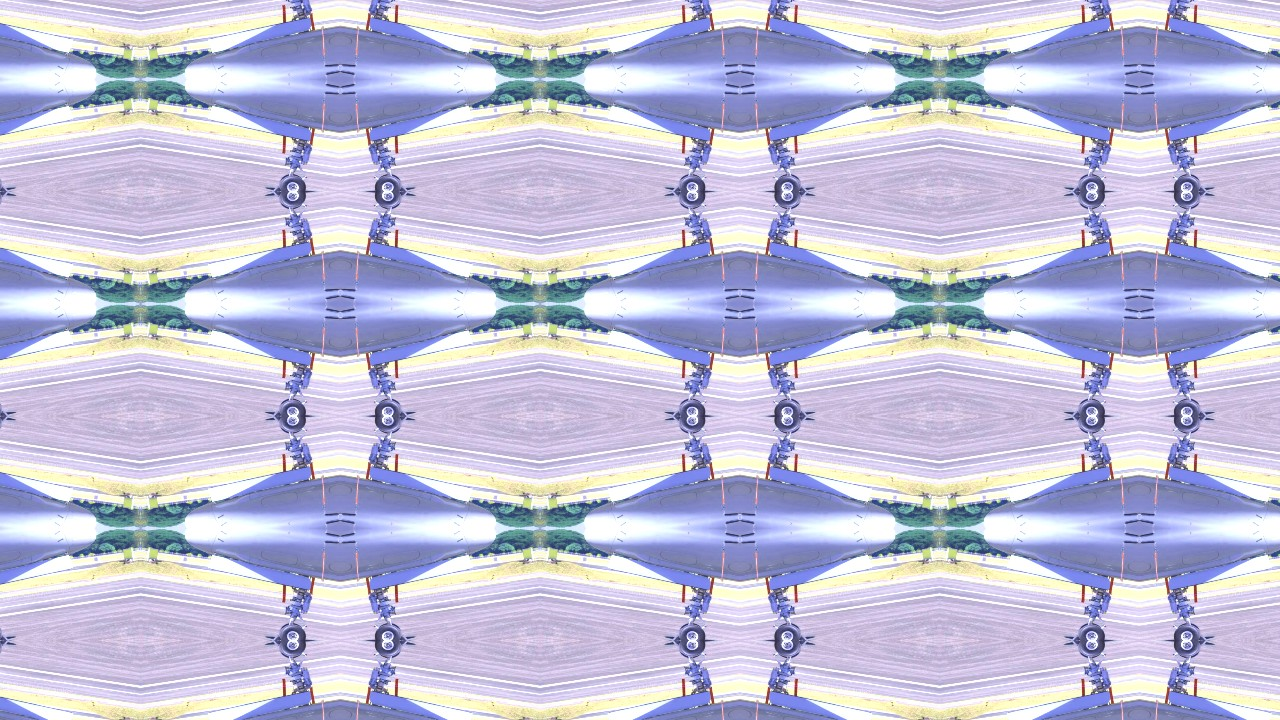chock: (270, 184, 283, 191), (397, 184, 410, 191), (670, 184, 683, 191), (797, 184, 810, 191), (1070, 184, 1083, 191), (1197, 184, 1210, 191), (270, 191, 283, 198), (397, 191, 410, 198), (670, 191, 683, 198), (797, 191, 810, 198), (1070, 191, 1083, 198), (1197, 191, 1210, 198), (270, 409, 283, 416), (397, 409, 410, 416), (670, 409, 683, 416), (797, 409, 810, 416), (1070, 409, 1083, 416), (1197, 409, 1210, 416), (270, 416, 283, 423), (397, 416, 410, 423), (670, 416, 683, 423), (797, 416, 810, 423), (1070, 416, 1083, 423), (1197, 416, 1210, 423), (270, 634, 283, 641), (397, 634, 410, 641), (670, 634, 683, 641), (797, 634, 810, 641), (1070, 634, 1083, 641), (1197, 634, 1210, 641), (270, 641, 283, 648), (397, 641, 410, 648), (670, 641, 683, 648), (797, 641, 810, 648), (1070, 641, 1083, 648), (1197, 641, 1210, 648), (0, 184, 10, 191), (0, 191, 10, 198), (0, 409, 10, 416), (0, 416, 10, 423), (0, 634, 10, 641), (0, 641, 10, 648)
wheel: (276, 171, 307, 191), (373, 171, 404, 191), (676, 171, 707, 191), (773, 171, 804, 191), (1076, 171, 1107, 191), (1173, 171, 1204, 191), (276, 191, 307, 211), (373, 191, 404, 211), (676, 191, 707, 211), (773, 191, 804, 211), (1076, 191, 1107, 211), (1173, 191, 1204, 211), (276, 396, 307, 416), (373, 396, 404, 416), (676, 396, 707, 416), (773, 396, 804, 416), (1076, 396, 1107, 416), (1173, 396, 1204, 416), (276, 416, 307, 436), (373, 416, 404, 436), (676, 416, 707, 436), (773, 416, 804, 436), (1076, 416, 1107, 436), (1173, 416, 1204, 436), (276, 621, 307, 641), (373, 621, 404, 641), (676, 621, 707, 641), (773, 621, 804, 641), (1076, 621, 1107, 641), (1173, 621, 1204, 641), (276, 641, 307, 661), (373, 641, 404, 661), (676, 641, 707, 661), (773, 641, 804, 661), (1076, 641, 1107, 661), (1173, 641, 1204, 661), (280, 172, 303, 184), (377, 172, 400, 184), (680, 172, 703, 184), (777, 172, 800, 184), (1080, 172, 1103, 184), (1177, 172, 1200, 184), (280, 199, 303, 211), (377, 199, 400, 211), (680, 199, 703, 211), (777, 199, 800, 211), (1080, 199, 1103, 211), (1177, 199, 1200, 211), (280, 397, 303, 409), (377, 397, 400, 409), (680, 397, 703, 409), (777, 397, 800, 409), (1080, 397, 1103, 409), (1177, 397, 1200, 409), (280, 424, 303, 436), (377, 424, 400, 436), (680, 424, 703, 436), (777, 424, 800, 436), (1080, 424, 1103, 436), (1177, 424, 1200, 436), (280, 622, 303, 634), (377, 622, 400, 634), (680, 622, 703, 634), (777, 622, 800, 634), (1080, 622, 1103, 634), (1177, 622, 1200, 634), (280, 649, 303, 661), (377, 649, 400, 661), (680, 649, 703, 661), (777, 649, 800, 661), (1080, 649, 1103, 661), (1177, 649, 1200, 661), (0, 171, 4, 191), (0, 191, 4, 211), (0, 396, 4, 416), (0, 416, 4, 436), (0, 621, 4, 641), (0, 641, 4, 661)
